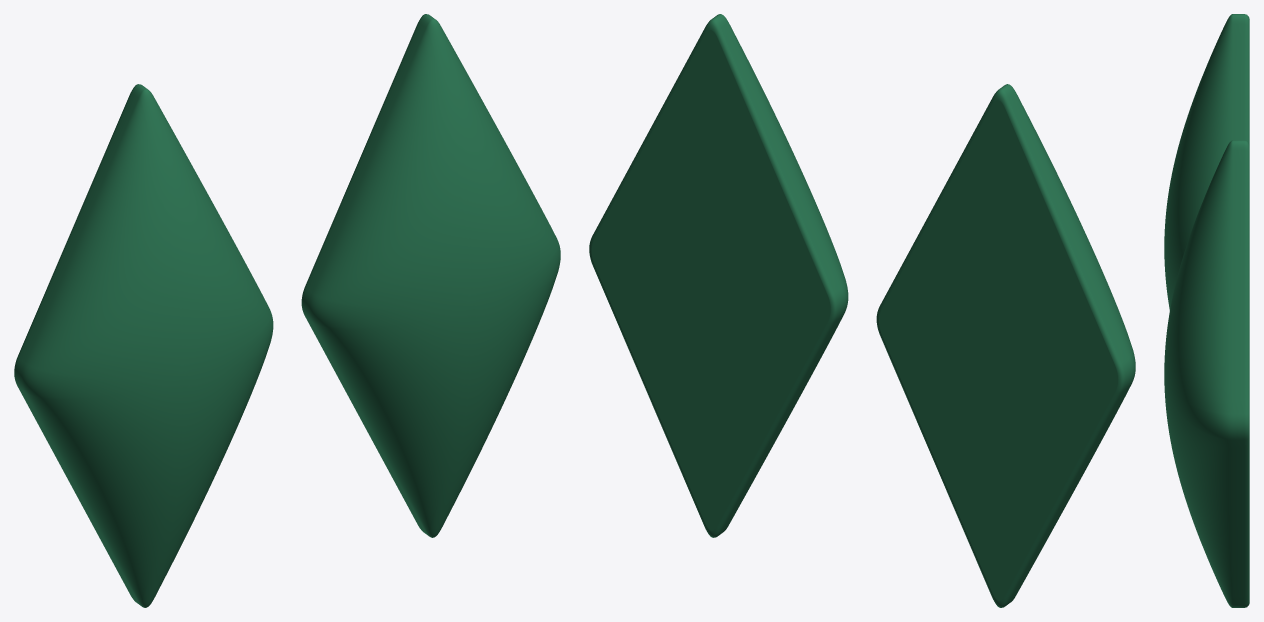
The model's file is matched-pair-v1.glb.
3 views of the same model, side by side, from view 1: azimuth 30°, elevation 25°; view 2: azimuth 150°, elevation 25°; view 3: azimuth 270°, elevation 25° (orthographic). The views are drawn at different scales.
Visible parts, largest first — view 1: Rhombus Cabochon 24x12x4mm.001, Rhombus Cabochon 24x12x4mm; view 2: Rhombus Cabochon 24x12x4mm, Rhombus Cabochon 24x12x4mm.001; view 3: Rhombus Cabochon 24x12x4mm.001, Rhombus Cabochon 24x12x4mm.
Boxes of the visible parts, x1,y1,x2,y2 form: Rhombus Cabochon 24x12x4mm.001: [301, 14, 560, 537]; Rhombus Cabochon 24x12x4mm: [14, 84, 273, 607]; Rhombus Cabochon 24x12x4mm: [876, 84, 1135, 607]; Rhombus Cabochon 24x12x4mm.001: [589, 14, 848, 537]; Rhombus Cabochon 24x12x4mm.001: [1164, 140, 1249, 607]; Rhombus Cabochon 24x12x4mm: [1164, 14, 1249, 310].
Size of the model in its own units: 0.0259 by 0.024 by 0.00398.
